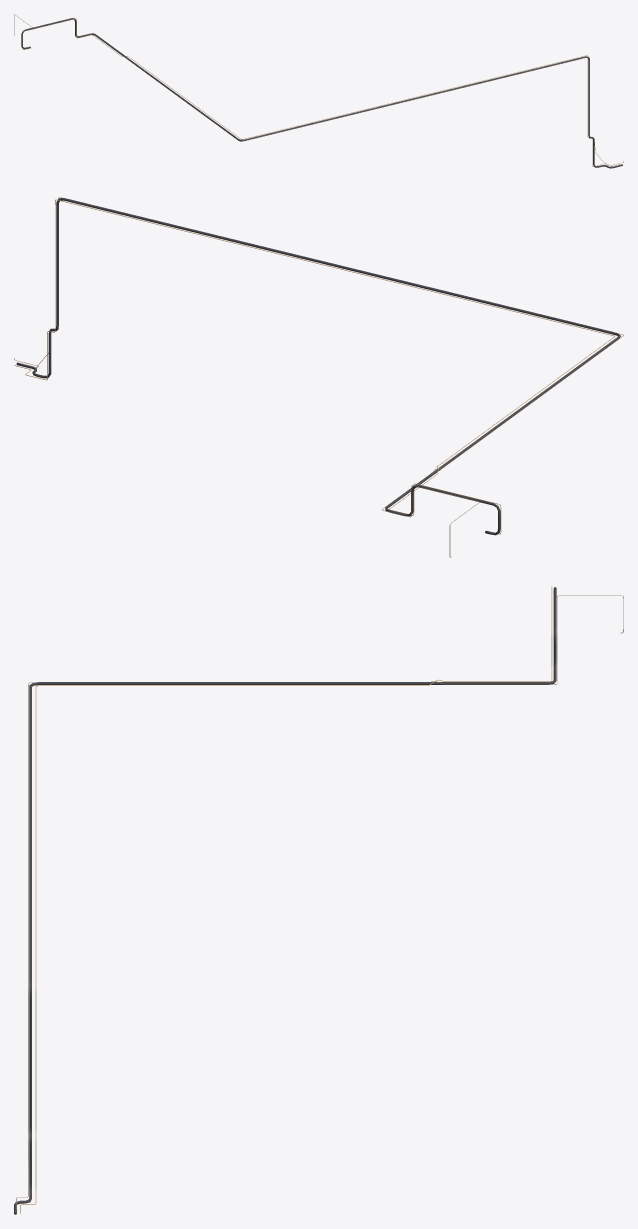
Rendered from slab_pipes_hvac__hvac-heatpump_attic_rp15.glb.
3 views of the same model, one above another, from view 1: azimuth 30°, elevation 25°; view 2: azimuth 150°, elevation 25°; view 3: azimuth 270°, elevation 25° (orthographic). The views are drawn at different scales.
Visible parts, largest first — view 1: pipe_hvac_lineset_suction_hp_rp15ay36, pipe_hvac_lineset_liquid_hp_rp15ay36, pipe_hvac_lineset_tstat_cable_hp_rp15ay36; view 2: pipe_hvac_lineset_suction_hp_rp15ay36, pipe_hvac_lineset_liquid_hp_rp15ay36, pipe_hvac_lineset_tstat_cable_hp_rp15ay36; view 3: pipe_hvac_lineset_suction_hp_rp15ay36, pipe_hvac_lineset_liquid_hp_rp15ay36, pipe_hvac_lineset_tstat_cable_hp_rp15ay36.
Part boxes in pixels (x1=…): pipe_hvac_lineset_suction_hp_rp15ay36: x1=21, y1=18, x2=622, y2=168; pipe_hvac_lineset_liquid_hp_rp15ay36: x1=22, y1=18, x2=620, y2=166; pipe_hvac_lineset_tstat_cable_hp_rp15ay36: x1=14, y1=14, x2=623, y2=165; pipe_hvac_lineset_suction_hp_rp15ay36: x1=16, y1=198, x2=620, y2=535; pipe_hvac_lineset_liquid_hp_rp15ay36: x1=14, y1=199, x2=614, y2=534; pipe_hvac_lineset_tstat_cable_hp_rp15ay36: x1=14, y1=197, x2=623, y2=557; pipe_hvac_lineset_suction_hp_rp15ay36: x1=14, y1=587, x2=556, y2=1214; pipe_hvac_lineset_liquid_hp_rp15ay36: x1=20, y1=586, x2=552, y2=1213; pipe_hvac_lineset_tstat_cable_hp_rp15ay36: x1=16, y1=595, x2=623, y2=1210.
Size of the model in its own units: 13.27 by 3.77 by 8.71.
